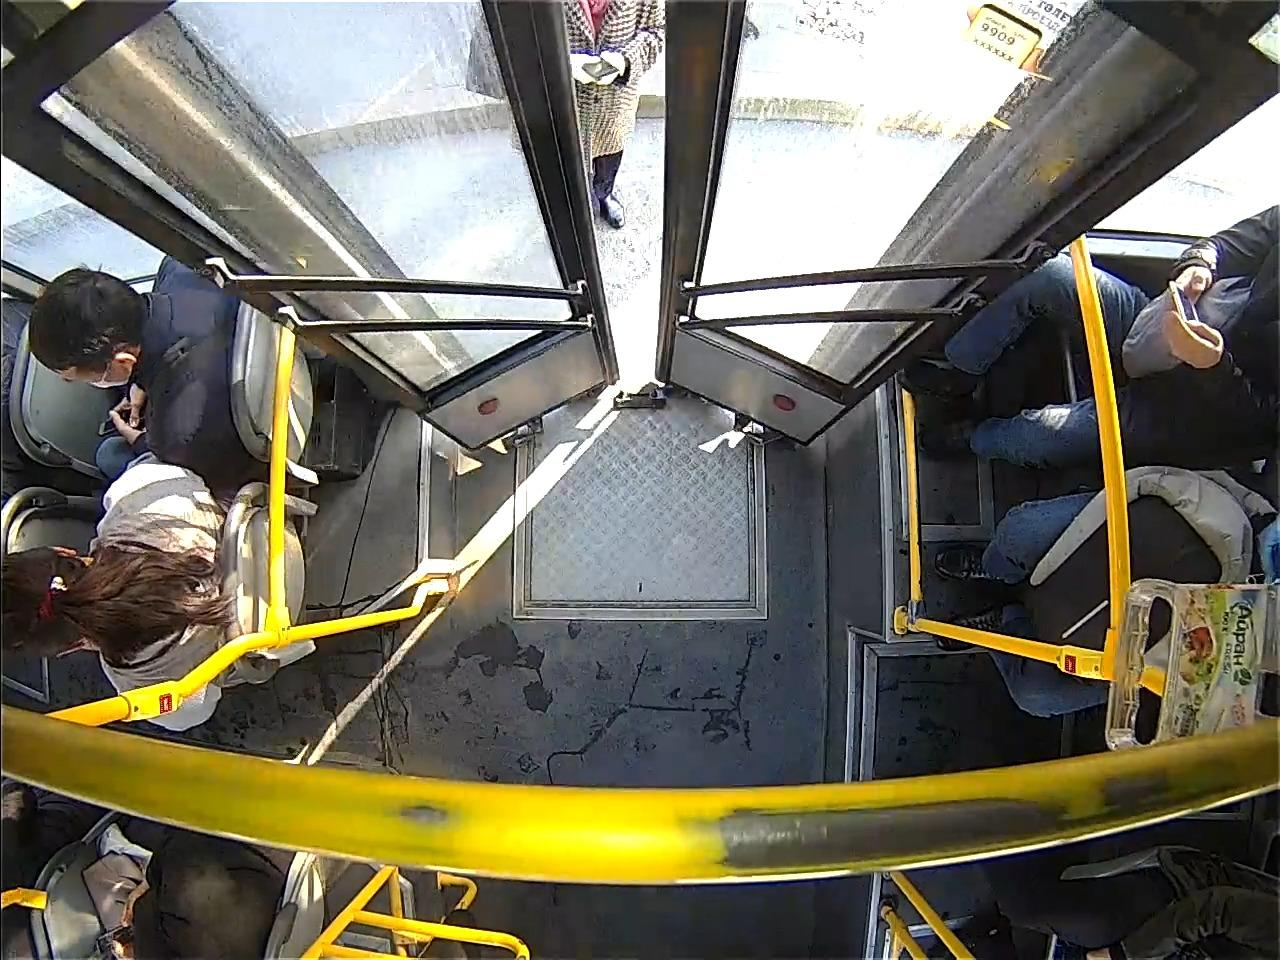open: (3, 0, 1261, 391)
